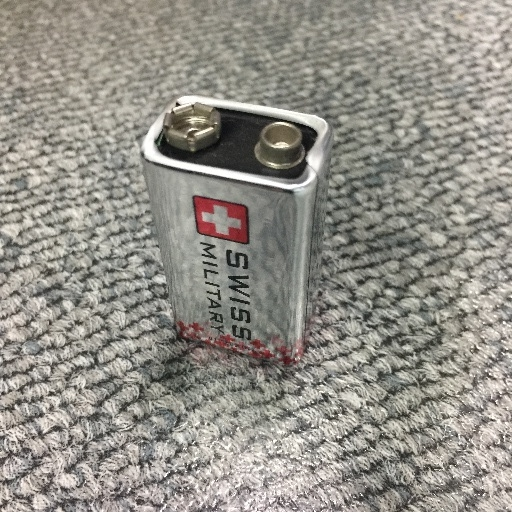Battery_3: (123, 81, 348, 385)
